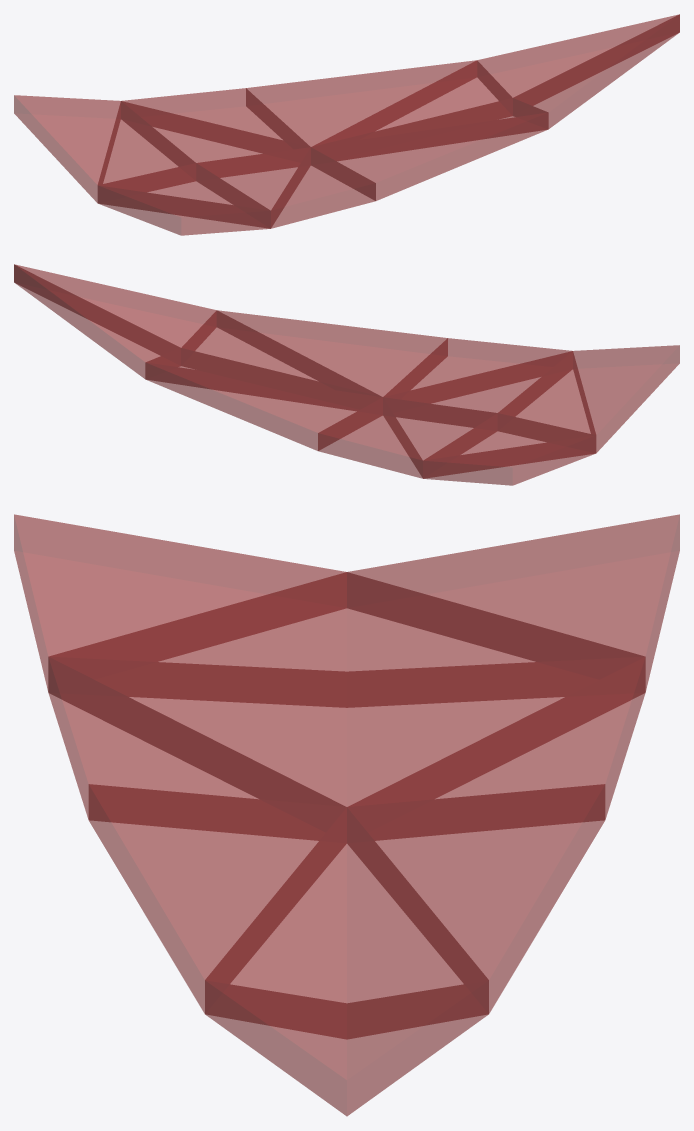
The model's file is SM_Prop_Banner_Roof_06_Collision.fbx.
3 renders of one model, top to bottom at view 1: azimuth 30°, elevation 25°; view 2: azimuth 150°, elevation 25°; view 3: azimuth 270°, elevation 25°, orthographic. The views are drawn at different scales.
Visible parts, largest first — view 1: SM_Prop_Banner_Roof_06_Collision; view 2: SM_Prop_Banner_Roof_06_Collision; view 3: SM_Prop_Banner_Roof_06_Collision.
Boxes of the visible parts, x1,y1,x2,y2 form: SM_Prop_Banner_Roof_06_Collision: [14, 14, 679, 235]; SM_Prop_Banner_Roof_06_Collision: [14, 264, 679, 485]; SM_Prop_Banner_Roof_06_Collision: [14, 514, 679, 1116].
Size of the model in its own units: 500 by 50.19 by 249.
